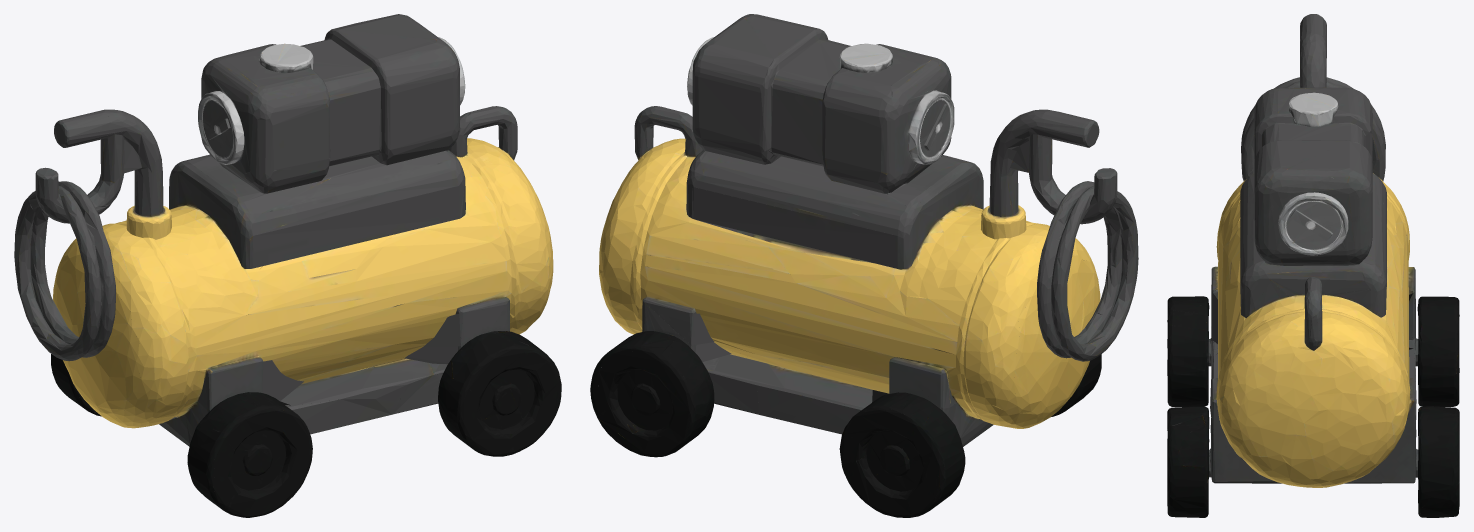
File: compressor_v1.glb
The picture shows the model from 3 angles, left to right: view 1: azimuth 30°, elevation 25°; view 2: azimuth 150°, elevation 25°; view 3: azimuth 270°, elevation 25°; orthographic projection. The views are drawn at different scales.
Visible parts, largest first — view 1: body_mesh, motor_mesh, nozzle_mesh, wheelF_mesh, wheelR_mesh; view 2: body_mesh, motor_mesh, nozzle_mesh, wheelF_mesh, wheelR_mesh; view 3: body_mesh, motor_mesh, wheelR_mesh, wheelF_mesh, nozzle_mesh.
Boxes of the visible parts, bbox=[...] form: body_mesh: bbox=[51, 109, 561, 502]; motor_mesh: bbox=[174, 14, 517, 238]; nozzle_mesh: bbox=[14, 110, 143, 421]; wheelF_mesh: bbox=[348, 305, 558, 456]; wheelR_mesh: bbox=[59, 368, 342, 517]; body_mesh: bbox=[590, 109, 1101, 502]; motor_mesh: bbox=[634, 14, 981, 238]; nozzle_mesh: bbox=[1014, 110, 1138, 418]; wheelF_mesh: bbox=[597, 302, 784, 457]; wheelR_mesh: bbox=[800, 362, 1091, 517]; body_mesh: bbox=[1167, 30, 1459, 514]; motor_mesh: bbox=[1240, 87, 1386, 339]; wheelR_mesh: bbox=[1167, 285, 1459, 406]; wheelF_mesh: bbox=[1167, 401, 1459, 517]; nozzle_mesh: bbox=[1241, 14, 1385, 181].
Bounding box in the file's own units: 1 × 0.7467 × 0.5706.
Materials: 1 (1 with a texture image).
